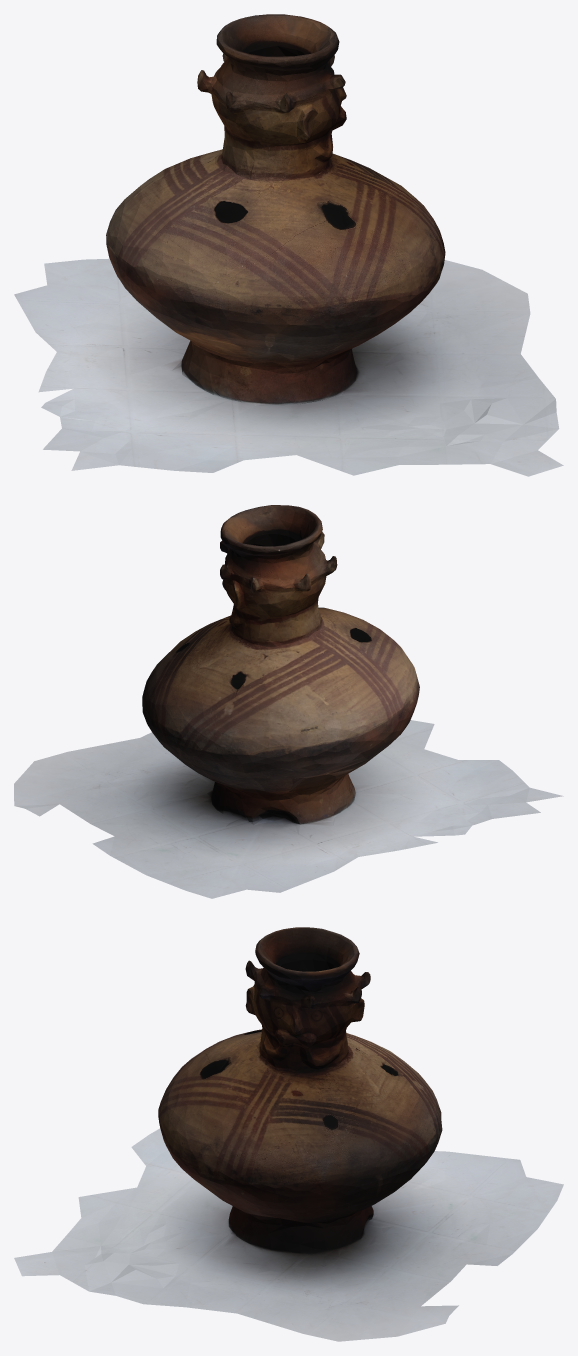
The model's file is 2-vasija4final.glb.
3 views of the same model, one above another, from view 1: azimuth 30°, elevation 25°; view 2: azimuth 150°, elevation 25°; view 3: azimuth 270°, elevation 25° (orthographic). The views are drawn at different scales.
Parts seen in each view (by area): view 1: Mesh_0.003, Mesh_2.003, Mesh_1.003; view 2: Mesh_1.003, Mesh_2.003, Mesh_0.003; view 3: Mesh_1.003, Mesh_0.003, Mesh_2.003.
Boxes of the visible parts, box(x1,y1,x2,y2) form: Mesh_0.003: box(121, 178, 563, 476); Mesh_2.003: box(14, 14, 350, 472); Mesh_1.003: box(106, 14, 445, 395); Mesh_1.003: box(142, 505, 408, 800); Mesh_2.003: box(92, 505, 563, 898); Mesh_0.003: box(14, 607, 434, 836); Mesh_1.003: box(159, 927, 442, 1254); Mesh_0.003: box(14, 1032, 466, 1341); Mesh_2.003: box(131, 949, 563, 1265).
Size of the model in its own units: 11.72 by 6.92 by 12.12.
Materials: 3 (3 with a texture image).
